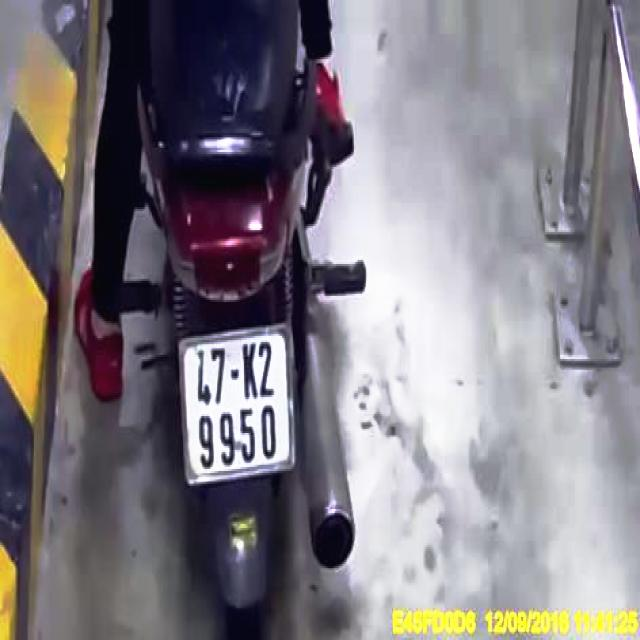license_plate: (175, 325, 298, 486)
